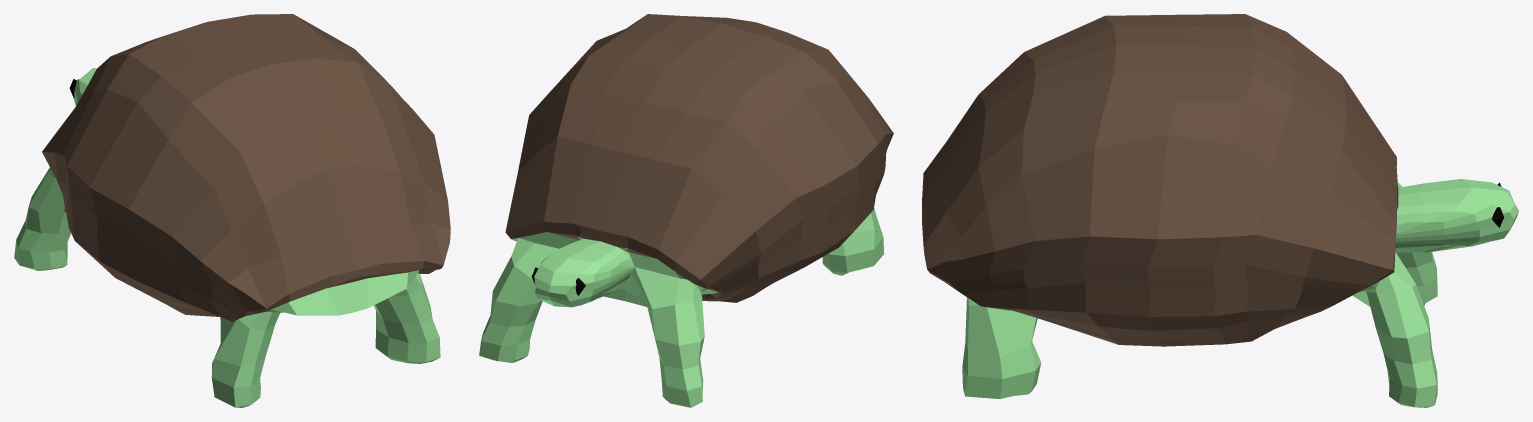
The model's file is tortoise.fbx.
The picture shows the model from 3 angles, left to right: view 1: azimuth 30°, elevation 25°; view 2: azimuth 150°, elevation 25°; view 3: azimuth 270°, elevation 25°; orthographic projection. The views are drawn at different scales.
Visible parts, largest first — view 1: tortoise; view 2: tortoise; view 3: tortoise.
Boxes of the visible parts, left/top/right/bottom form: tortoise: left=14, top=14, right=450, bottom=407; tortoise: left=479, top=14, right=893, bottom=407; tortoise: left=922, top=14, right=1518, bottom=407.
Size of the model in its own units: 3.91 by 3.19 by 5.66.
